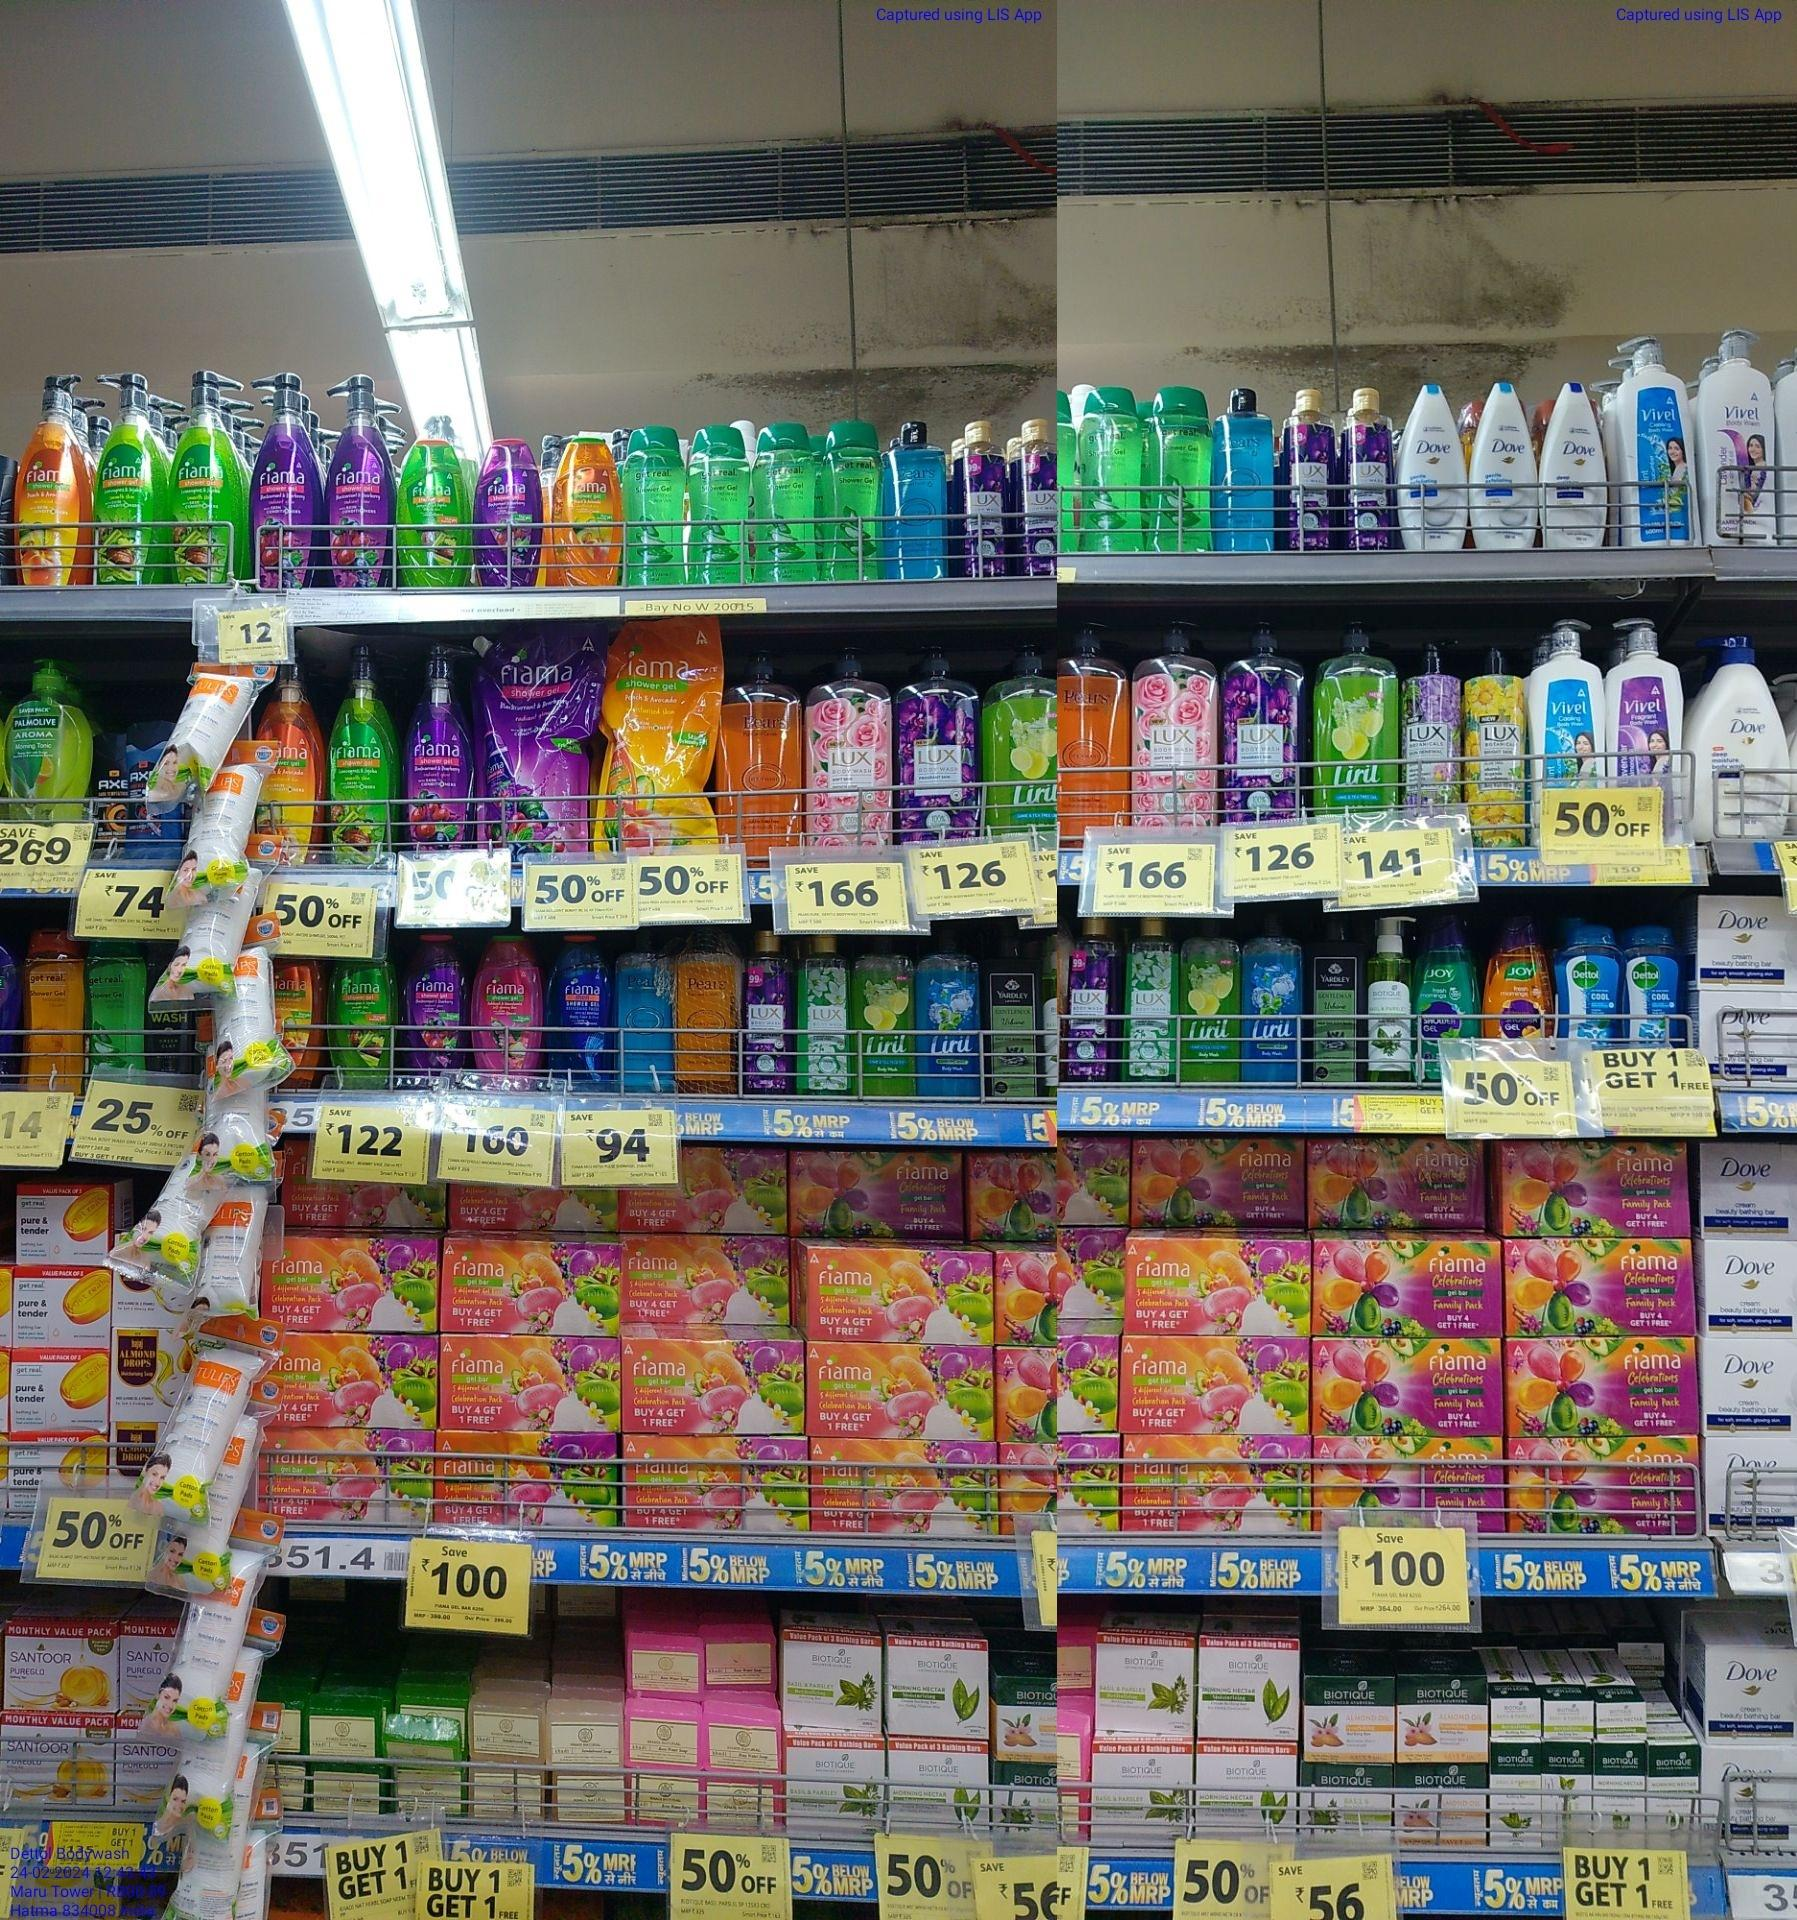Dettol_Bodywash_Cool: (1559, 922, 1623, 1044), (1625, 925, 1684, 1047)
Dove_Deep_Moisture_Body_Wash_250ML: (1542, 382, 1610, 551)
Dove_Gentle_Exfoliating_Body_Wash_250ML: (1468, 385, 1540, 551), (1403, 387, 1466, 551)
Fiama_Shower_Gel_Lemongrass_and_Jojoba_250ML: (397, 437, 464, 586)
Fiama_Shower_Gel_Patchouli_and_Macadamia_250ML: (473, 936, 539, 1077)
Fiama_Shower_Gel_Peach_and_Avocado_250ML: (554, 436, 622, 586)
Joy_Shower_Gel_Mandarin_and_Lemongrass_250ML: (1483, 914, 1550, 1039)
Joy_Shower_Gel_Mint_and_Eucalyptus_250ML: (1417, 910, 1478, 1081)
Liril_Cooling_Mint_Body_Wash_250ML: (919, 930, 980, 1094), (1243, 910, 1299, 1086)
Liril_Lime_and_Tea_Tree_Oil_Body_Wash_250ML: (856, 936, 919, 1096), (1184, 915, 1241, 1079)
Lux_Black_Orchid_Scent_and_Juniper_Oil_Body_Wash_245ML: (1066, 919, 1116, 1081), (1285, 390, 1336, 549), (961, 420, 1010, 579), (1346, 387, 1393, 551), (741, 930, 789, 1091), (1018, 419, 1056, 579)
Lux_Body_Wash_Skin_Detox_Freesia_Scent_and_Alove_Vera_245ML: (799, 936, 853, 1091), (1130, 915, 1175, 1079)
Pears_Pure_Glycerin_and_Mint_Extracts_Body_Wash_250ML: (1216, 390, 1275, 552), (616, 929, 676, 1089), (887, 420, 946, 578)
